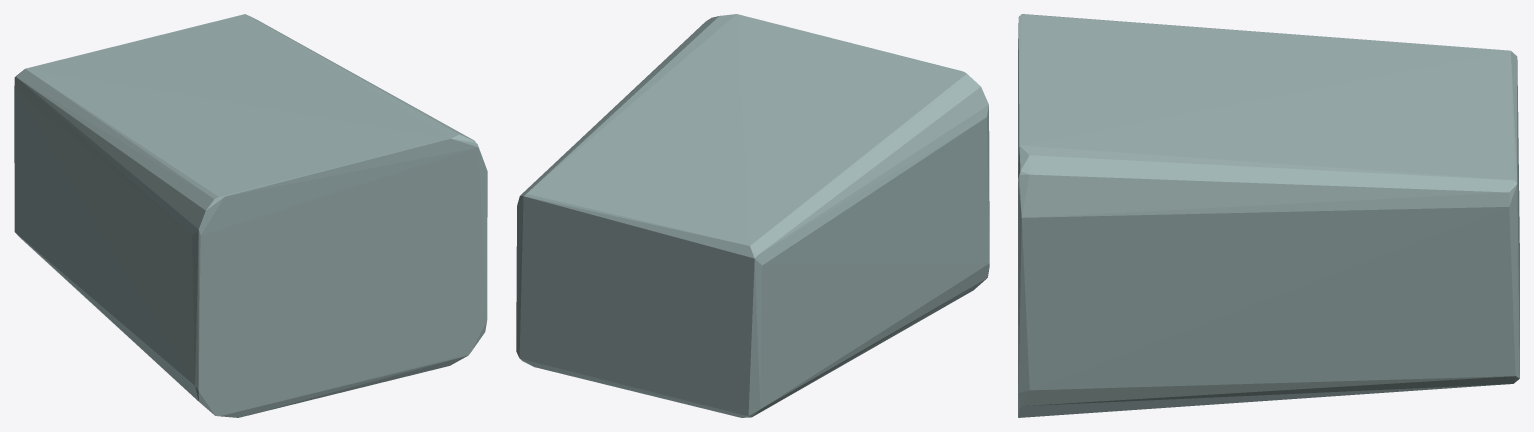
The model's file is trash_a02.glb.
The picture shows the model from 3 angles, left to right: view 1: azimuth 30°, elevation 25°; view 2: azimuth 150°, elevation 25°; view 3: azimuth 270°, elevation 25°; orthographic projection. The views are drawn at different scales.
Visible parts, largest first — view 1: geometry_0; view 2: geometry_0; view 3: geometry_0.
Boxes of the visible parts, <box> form: geometry_0: <box>14,14,487,417</box>; geometry_0: <box>516,14,989,417</box>; geometry_0: <box>1018,14,1519,417</box>.
Bounding box in the file's own units: 0.3839 × 0.2861 × 0.4797.
